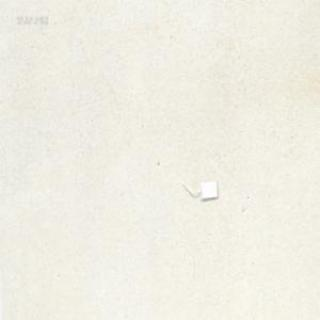LuggageTagtrack_idkeyframe: (180, 179, 218, 201)
